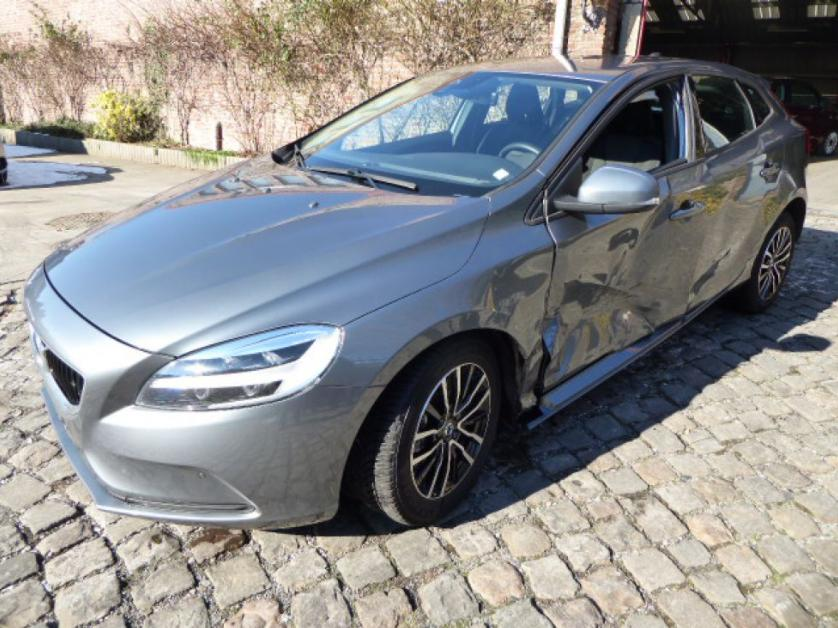Back-door: (685, 68, 786, 309)
Back-wheel: (741, 215, 795, 306)
Back-window: (688, 75, 771, 153)
Fender: (317, 170, 554, 410)
Front-bumper: (24, 261, 385, 528)
Front-door: (524, 68, 714, 391)
Front-wheel: (343, 331, 507, 526)
Front-window: (581, 76, 687, 182)
Grille: (41, 338, 83, 407)
Headlight: (136, 323, 345, 411)
Hood: (45, 153, 490, 359)
Mirror: (530, 158, 661, 220)
Quarter-panel: (752, 121, 809, 255)
Rocker-panel: (527, 256, 756, 429)
Roof: (438, 54, 764, 85)
Tail-light: (804, 128, 811, 157)
Windshield: (287, 71, 608, 198)
